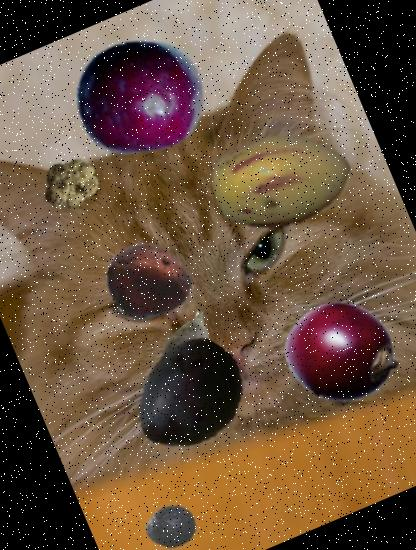Avocado: (137, 494, 205, 550)
Beetroot: (136, 294, 242, 399)
Cauliflower: (30, 144, 109, 224)
Chestnut: (92, 228, 205, 340)
Pepino: (189, 90, 374, 275)
Plum: (55, 10, 226, 182), (114, 320, 268, 473)
Tamarillo: (267, 278, 416, 427)
